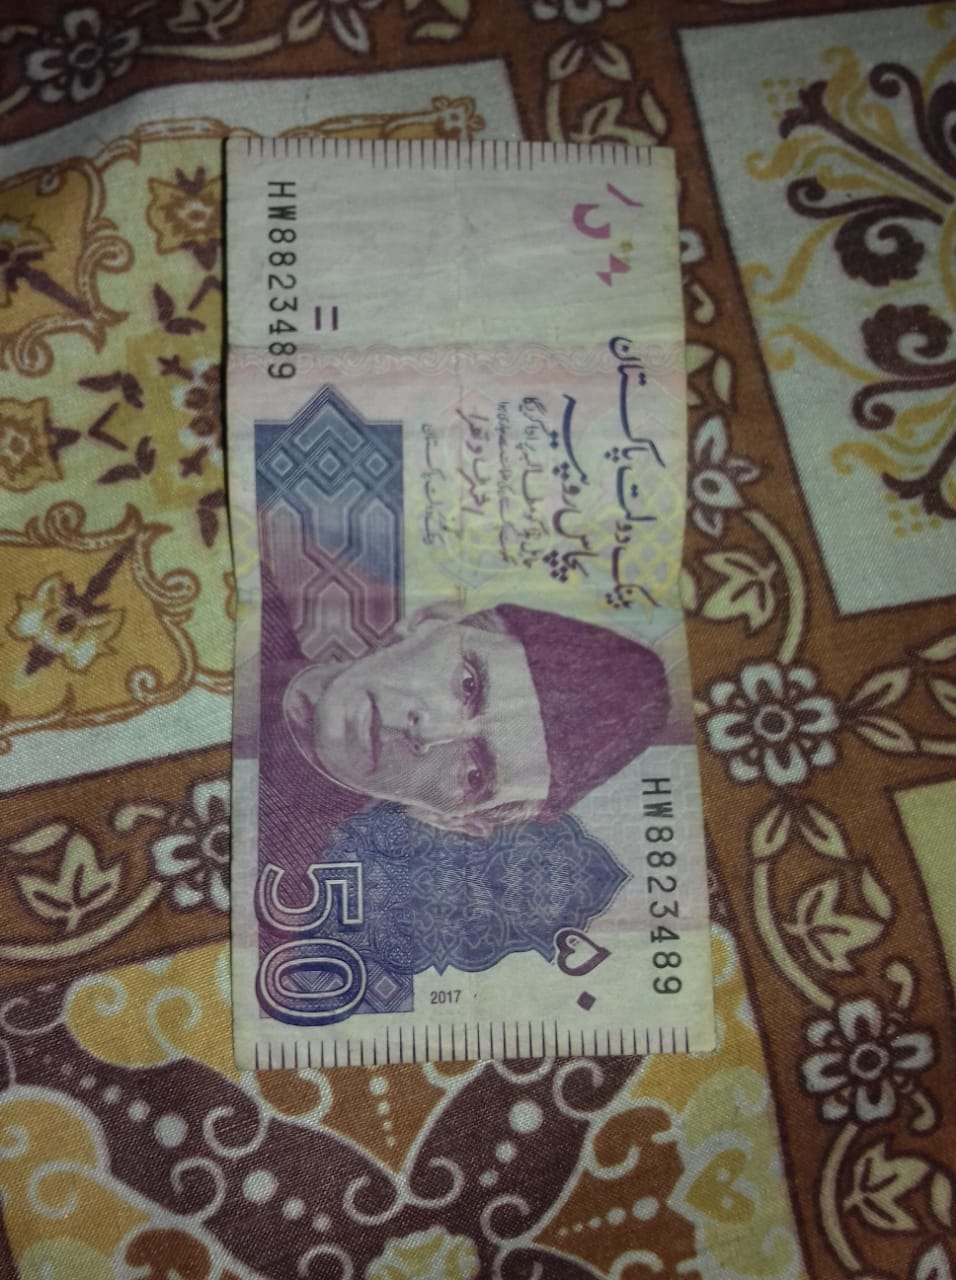50 rupee: (162, 112, 761, 1130)
